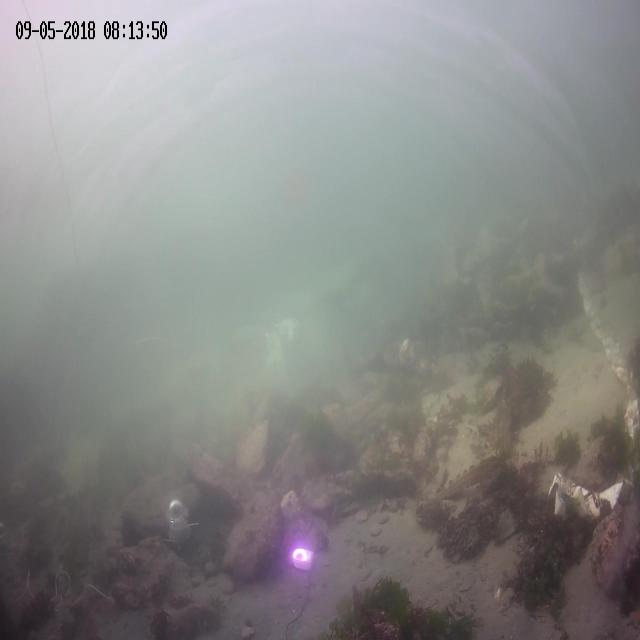scallop: (378, 509, 390, 524), (355, 507, 367, 522), (371, 524, 380, 538)
